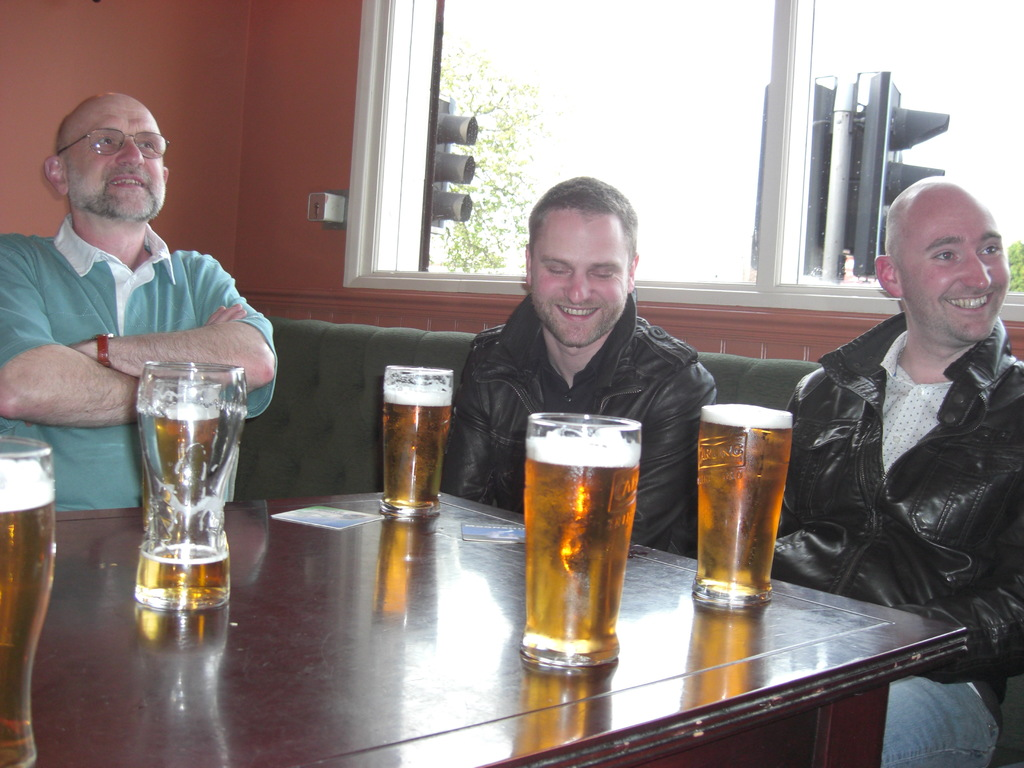Beer: (520, 413, 641, 661), (698, 402, 782, 598), (0, 472, 52, 760), (373, 384, 455, 504), (154, 395, 221, 506), (135, 540, 231, 612), (139, 545, 227, 598)
